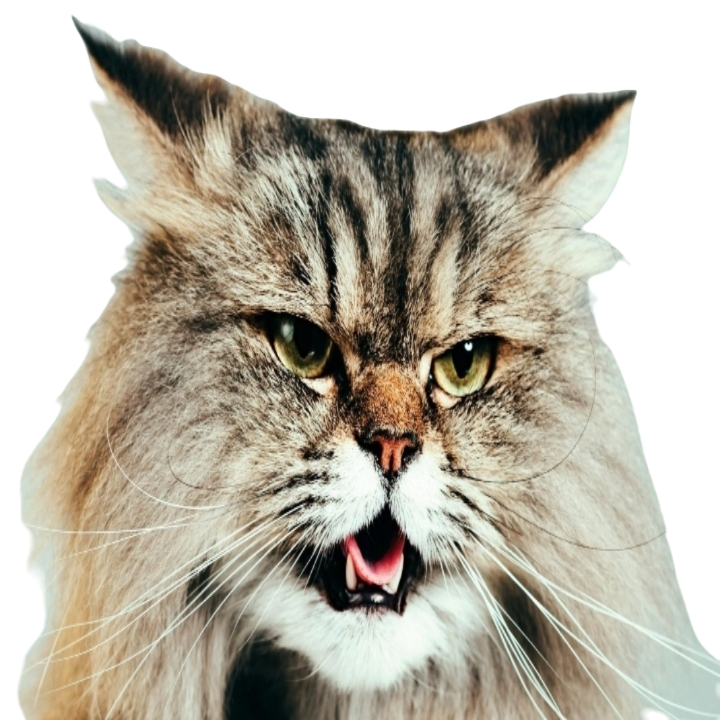Cat: (0, 18, 720, 719)
